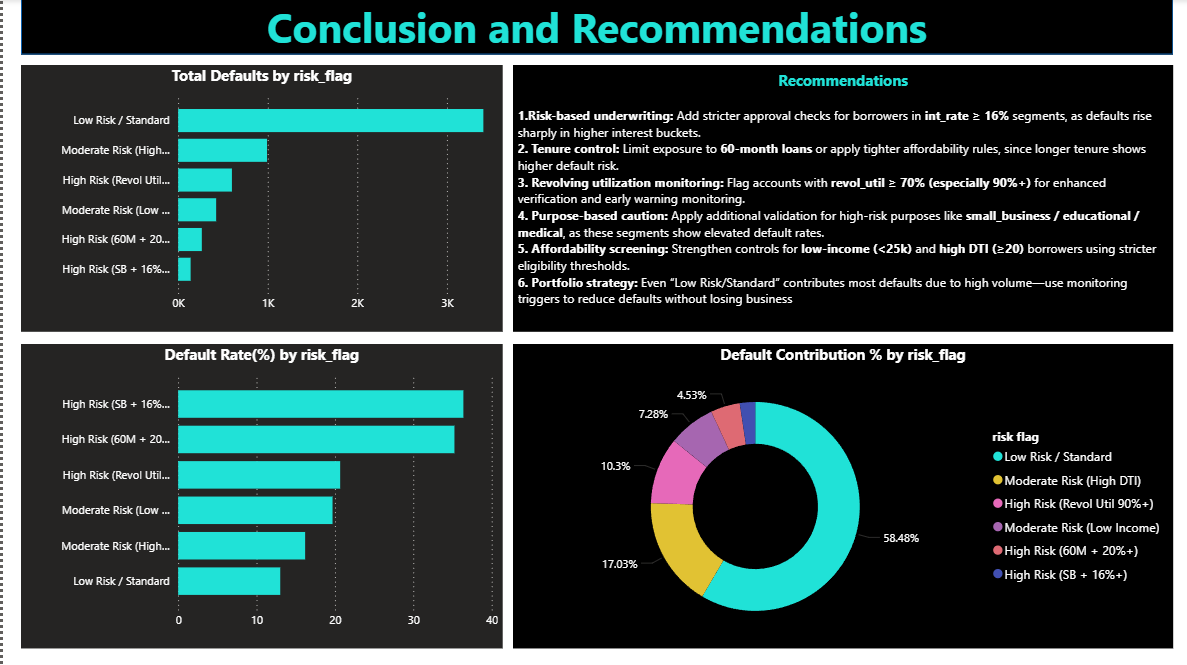

The page's visual inventory and layout, read from the dashboard file:
{"tool":"powerbi","page":{"name":"Conclusions and Recommendations","canvas":[1280,720],"ordinal":4},"visuals":[{"type":"clusteredBarChart","fields":{"Category":["loan_default_cleaned.risk_flag"],"Y":["loan_default_cleaned.Default Rate(%)"]},"box":[19.4,372.4,519.8,328.7],"z":0},{"type":"donutChart","fields":{"Category":["loan_default_cleaned.risk_flag"],"Y":["loan_default_cleaned.Default Contribution %"]},"box":[550.5,372.4,712.5,328.7],"z":1000},{"type":"textbox","box":[550.5,71.2,712.5,288.2],"z":2000},{"type":"clusteredBarChart","fields":{"Category":["loan_default_cleaned.risk_flag"],"Y":["loan_default_cleaned.Total Defaults"]},"box":[19.4,71.2,519.8,288.2],"z":3000},{"type":"shape","box":[19.4,0,1243.6,59.9],"z":4000}]}

Visuals, with their boxes in screenshot pixels (x1, y1, x2, y2), scaled from the page's 1280x720 canvas onto the 1187x665 screenshot:
clusteredBarChart - loan_default_cleaned.risk_flag x loan_default_cleaned.Default Rate(%): [18,344,500,648]
donutChart - loan_default_cleaned.risk_flag x loan_default_cleaned.Default Contribution %: [511,344,1171,648]
textbox: [511,66,1171,332]
clusteredBarChart - loan_default_cleaned.risk_flag x loan_default_cleaned.Total Defaults: [18,66,500,332]
shape: [18,0,1171,55]
